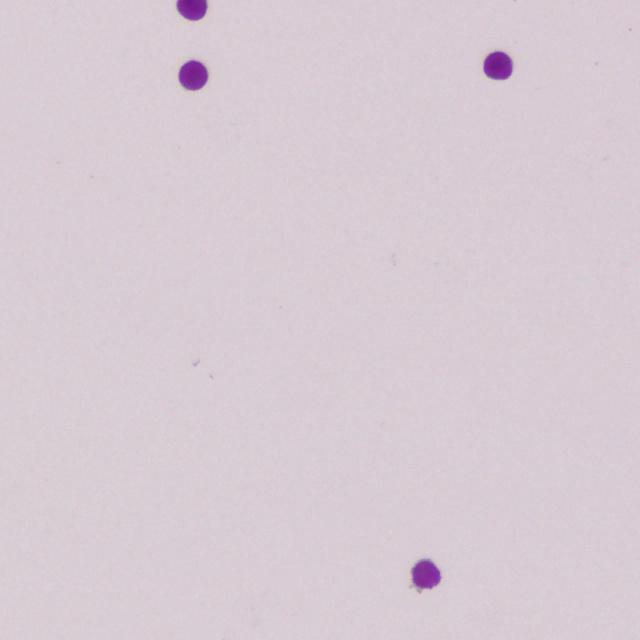viable: (412, 559, 439, 589), (484, 51, 512, 79), (179, 61, 207, 89), (177, 0, 206, 20)
